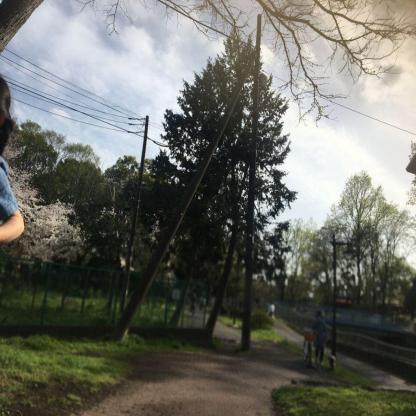Someiyoshino: (0, 146, 86, 269)
